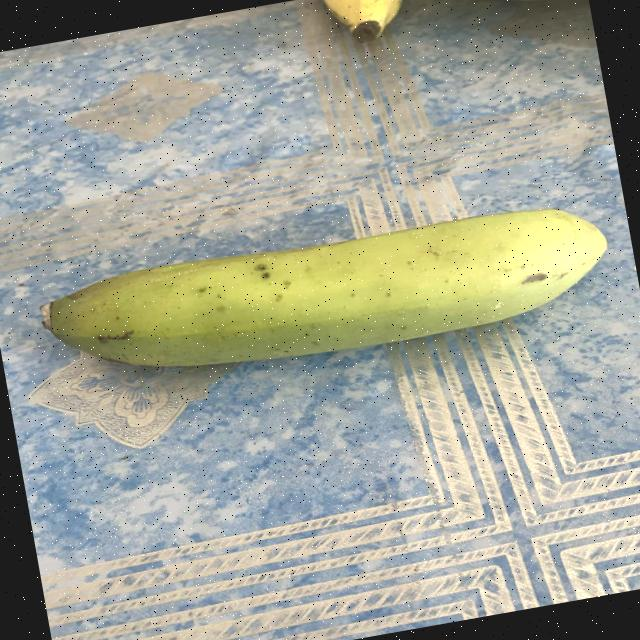Unripe: (12, 162, 640, 456)
